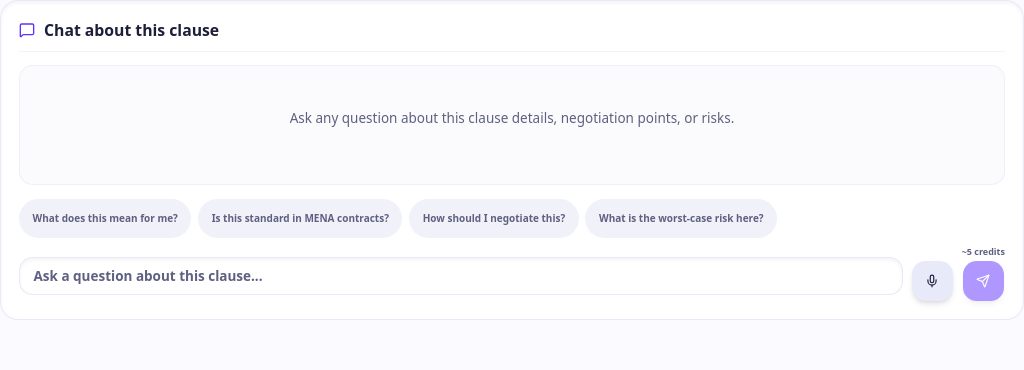
Scenario: ClauseChat Component › handles 429 Rate Limit reached with a notice
Type "Will this rate limit?" into the text box with placeholder "Ask a question about this clause..." at point(461, 276), box [19, 257, 903, 295]
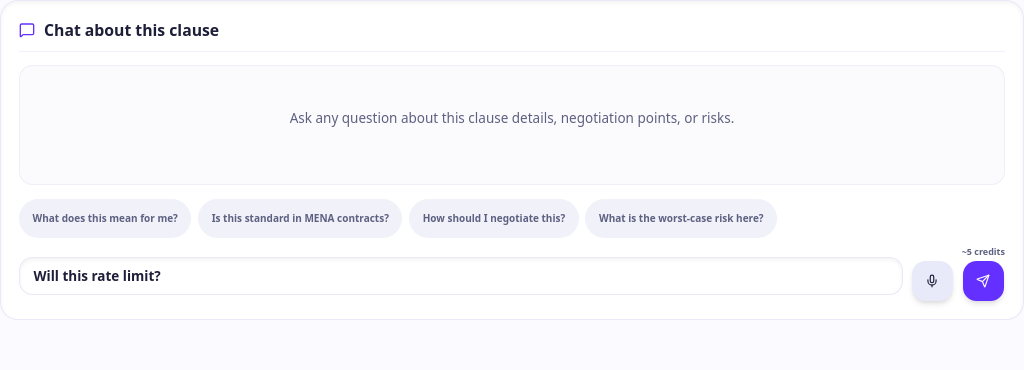
Click the button named "Send" at point(983, 281), box [963, 261, 1004, 301]
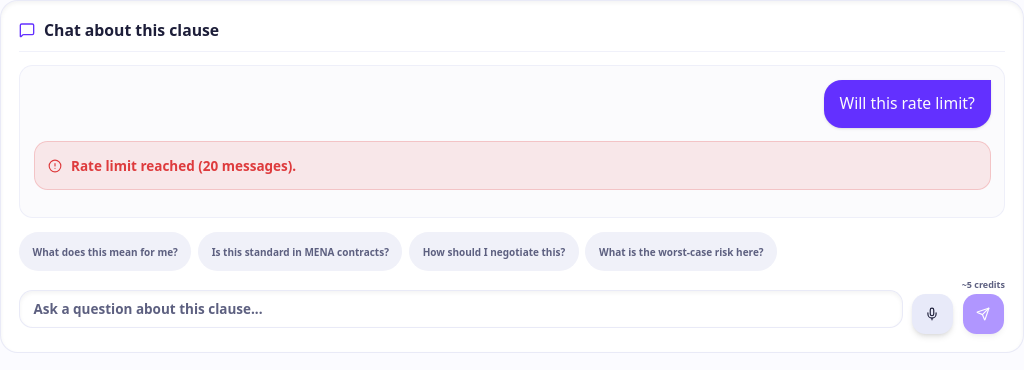
Expected: the text "Rate limit reached (20 messages)." is shown, [71, 156, 296, 176]
